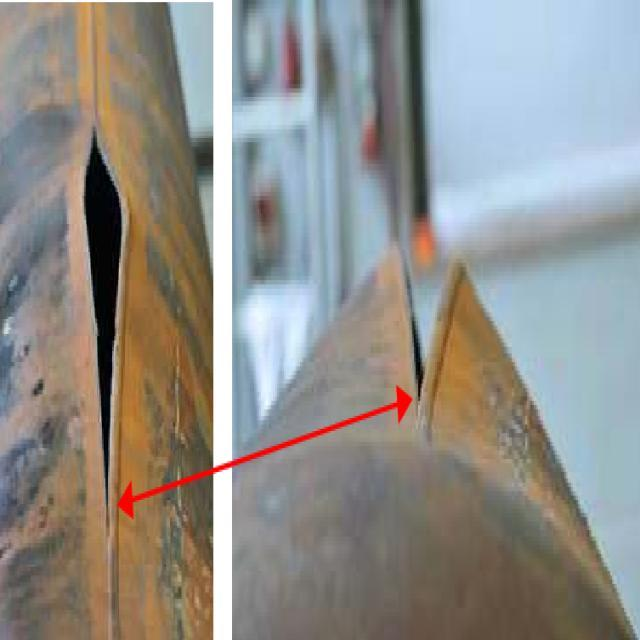burst: (83, 129, 122, 562)
